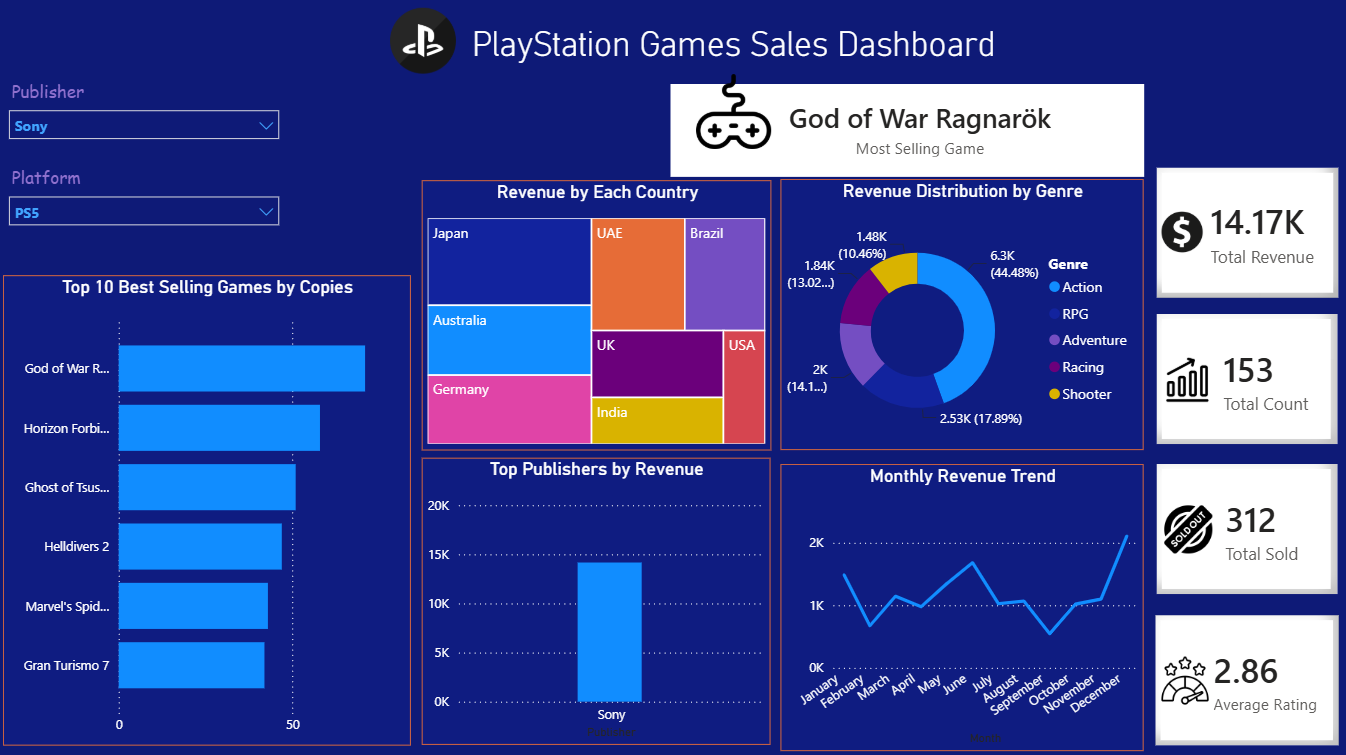

The dashboard page shown, as its layout file describes it:
{"tool":"powerbi","page":{"name":"Page 1","canvas":[1280,720],"ordinal":0},"visuals":[{"type":"cardVisual","fields":{"Data":["PlayStation_Orders.Total Revenue"]},"box":[1097.7,159.3,172.1,123.3],"z":0},{"type":"slicer","fields":{"Values":["PlayStation_Orders.Publisher"]},"box":[0,70.9,276.7,62.8],"z":1000},{"type":"cardVisual","fields":{"Data":["PlayStation_Orders.Total Count"]},"box":[1097.7,298.8,170.9,123.3],"z":2000},{"type":"cardVisual","fields":{"Data":["PlayStation_Orders.Total Sold"]},"box":[1097.7,440.7,170.9,123.3],"z":3000},{"type":"cardVisual","fields":{"Data":["PlayStation_Orders.Average Rating"]},"box":[1096.5,583.7,173.3,123.3],"z":4000},{"type":"donutChart","title":"Revenue Distribution by Genre","fields":{"Category":["PlayStation_Orders.Genre"],"Y":["Sum(PlayStation_Orders.Revenue ($))"]},"box":[741.9,171,344.2,257],"z":5000},{"type":"treemap","title":"Revenue by Each Country","fields":{"Group":["PlayStation_Orders.Country"],"Values":["Sum(PlayStation_Orders.Revenue ($))"]},"box":[401.9,172.1,331.6,256],"z":6000},{"type":"columnChart","title":"Top Publishers by Revenue","fields":{"Category":["PlayStation_Orders.Publisher"],"Y":["Sum(PlayStation_Orders.Revenue ($))"]},"box":[401.9,434.4,330.2,272.1],"z":7000},{"type":"lineChart","title":"Monthly Revenue Trend","fields":{"Category":["PlayStation_Orders.Purchase Date.Variation.Date Hierarchy.Month"],"Y":["Sum(PlayStation_Orders.Revenue ($))"]},"box":[741.9,440.7,344.2,272.1],"z":8000},{"type":"cardVisual","fields":{"Data":["PlayStation_Orders.Most Selling Game"]},"box":[637.2,80.2,448.8,88.4],"z":9000},{"type":"clusteredBarChart","title":"Top 10 Best Selling Games by Copies","fields":{"Category":["PlayStation_Orders.Game Name"],"Y":["Sum(PlayStation_Orders.Quantity)"]},"box":[4.7,261.6,386,445.4],"z":10000},{"type":"image","box":[1097.7,168.6,47.7,105.8],"z":11000},{"type":"image","box":[1086,329.1,82.6,61.6],"z":12000},{"type":"image","box":[1104.7,472.1,45.3,60.5],"z":13000},{"type":"image","box":[1037.2,623.3,174.4,45.3],"z":14000},{"type":"image","box":[623.3,70.9,147.7,70.9],"z":15000},{"type":"slicer","fields":{"Values":["PlayStation_Orders.Platform"]},"box":[0,152.3,276.7,62.8],"z":16000},{"type":"textbox","box":[197.7,17.4,998.8,53.5],"z":17000},{"type":"image","box":[343,8.1,118.6,62.8],"z":18000}]}

Visuals, with their boxes in screenshot pixels (x1, y1, x2, y2), scaled from the page's 1280x720 canvas onto the 1346x755 screenshot:
cardVisual - PlayStation_Orders.Total Revenue: crop(1154, 167, 1335, 296)
slicer - PlayStation_Orders.Publisher: crop(0, 74, 291, 140)
cardVisual - PlayStation_Orders.Total Count: crop(1154, 313, 1334, 443)
cardVisual - PlayStation_Orders.Total Sold: crop(1154, 462, 1334, 591)
cardVisual - PlayStation_Orders.Average Rating: crop(1153, 612, 1335, 741)
"Revenue Distribution by Genre" donutChart: crop(780, 179, 1142, 449)
"Revenue by Each Country" treemap: crop(423, 180, 771, 449)
"Top Publishers by Revenue" columnChart: crop(423, 456, 770, 741)
"Monthly Revenue Trend" lineChart: crop(780, 462, 1142, 747)
cardVisual - PlayStation_Orders.Most Selling Game: crop(670, 84, 1142, 177)
"Top 10 Best Selling Games by Copies" clusteredBarChart: crop(5, 274, 411, 741)
image: crop(1154, 177, 1204, 288)
image: crop(1142, 345, 1229, 410)
image: crop(1162, 495, 1209, 558)
image: crop(1091, 654, 1274, 701)
image: crop(655, 74, 811, 149)
slicer - PlayStation_Orders.Platform: crop(0, 160, 291, 226)
textbox: crop(208, 18, 1258, 74)
image: crop(361, 8, 485, 74)
